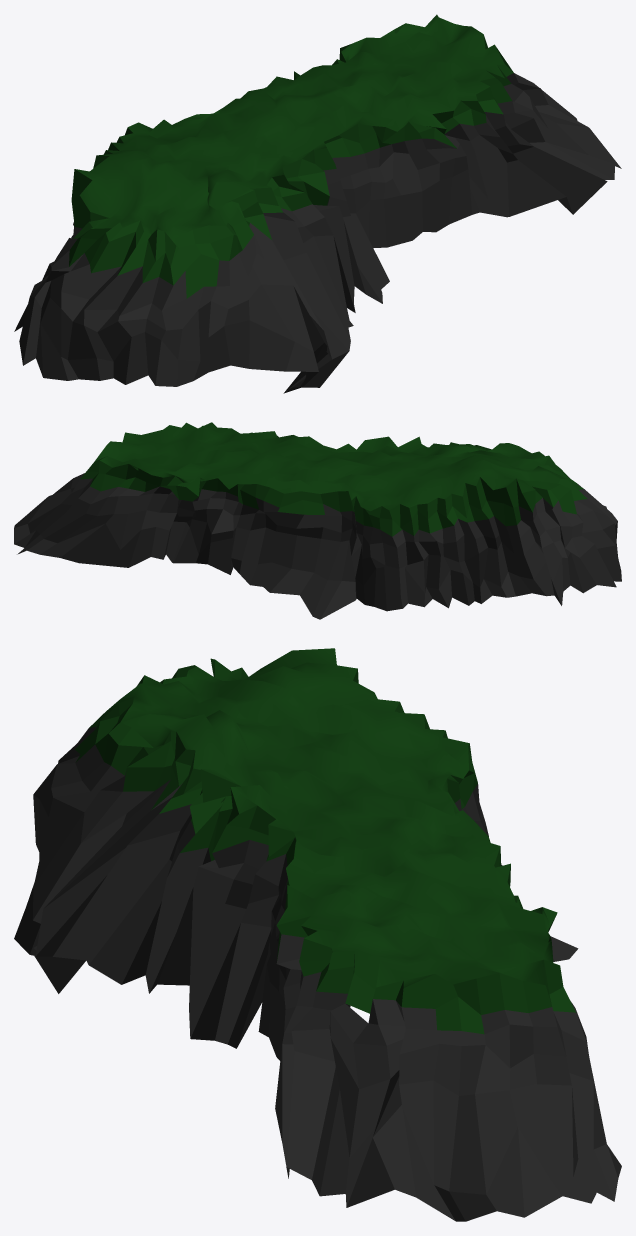
File: mountain3.fbx
The picture shows the model from 3 angles, top to bottom: view 1: azimuth 30°, elevation 25°; view 2: azimuth 150°, elevation 25°; view 3: azimuth 270°, elevation 25°; orthographic projection. The views are drawn at different scales.
Parts seen in each view (by area): view 1: mountain3; view 2: mountain3; view 3: mountain3.
Part boxes in pixels (x1=…): mountain3: x1=14, y1=14, x2=621, y2=393; mountain3: x1=14, y1=422, x2=621, y2=619; mountain3: x1=14, y1=648, x2=621, y2=1221.
Size of the model in its own units: 17643 by 4845 by 10160.
